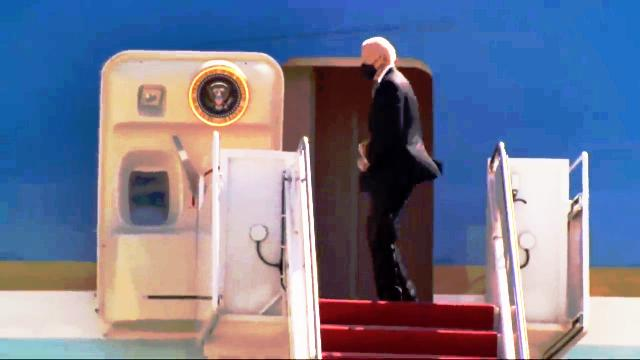berjalan: (344, 30, 444, 310)
